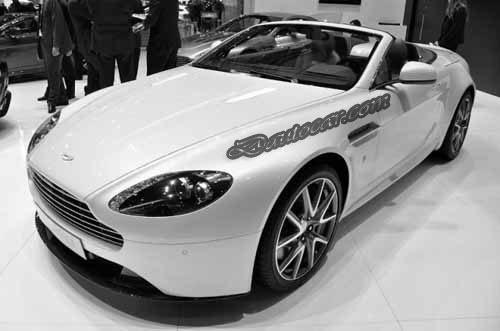car: (29, 21, 477, 299)
